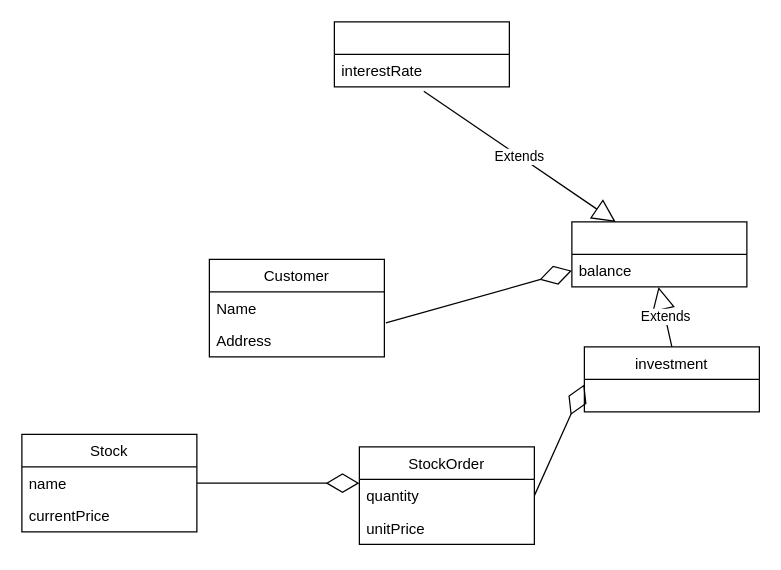
The diagram is 781 pixels wide and 570 high, and some of its shapes have lost their labels. Each missing label, with the box of its shape:
Bank Account: (571, 221, 747, 287)
Savings: (333, 21, 509, 87)
